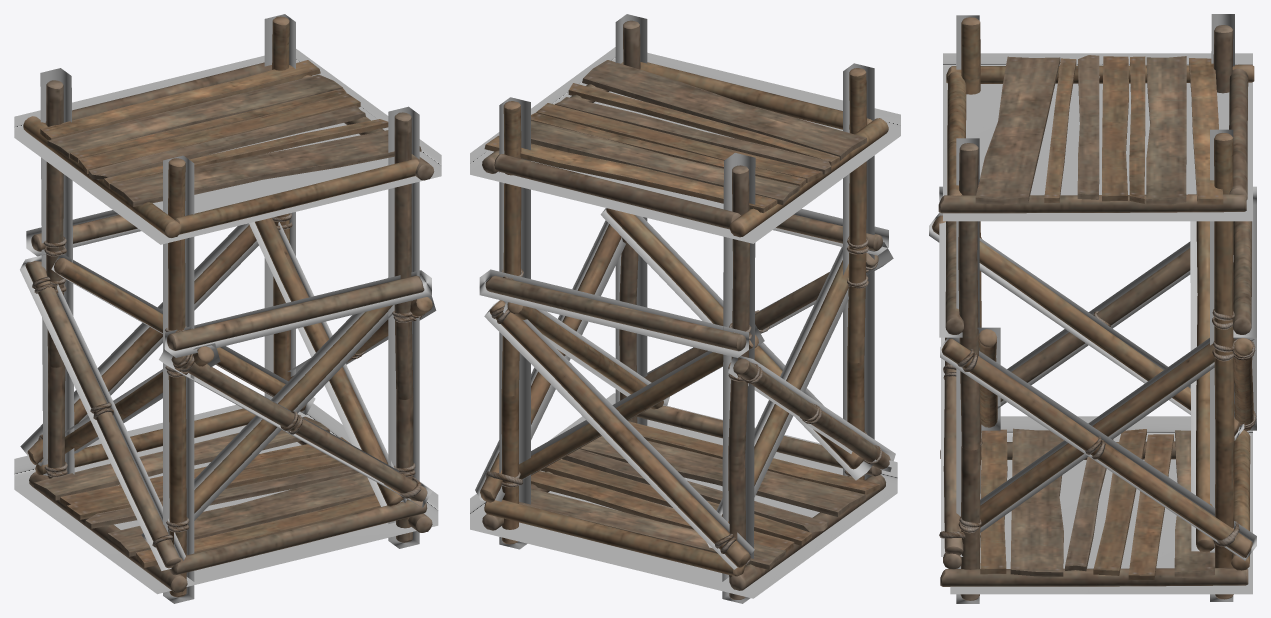
Rendered from SM_Wooden_Scaffolding_02a.gltf.
3 views of the same model, side by side, from view 1: azimuth 30°, elevation 25°; view 2: azimuth 150°, elevation 25°; view 3: azimuth 270°, elevation 25° (orthographic). The views are drawn at different scales.
Parts seen in each view (by area): view 1: SM_Wooden_Scaffolding_02a_LOD0, SM_Wooden_Scaffolding_02a_ConvexHulls; view 2: SM_Wooden_Scaffolding_02a_LOD0, SM_Wooden_Scaffolding_02a_ConvexHulls; view 3: SM_Wooden_Scaffolding_02a_LOD0, SM_Wooden_Scaffolding_02a_ConvexHulls.
Part boxes in pixels (<box>): SM_Wooden_Scaffolding_02a_LOD0: <box>23,16,434,597</box>; SM_Wooden_Scaffolding_02a_ConvexHulls: <box>14,14,441,603</box>; SM_Wooden_Scaffolding_02a_LOD0: <box>480,20,890,599</box>; SM_Wooden_Scaffolding_02a_ConvexHulls: <box>470,14,900,603</box>; SM_Wooden_Scaffolding_02a_LOD0: <box>932,17,1256,600</box>; SM_Wooden_Scaffolding_02a_ConvexHulls: <box>929,14,1256,603</box>.
Size of what is drawn, in the model's own units: 2.88 by 4.26 by 2.74.
3 materials, 2 textured.
